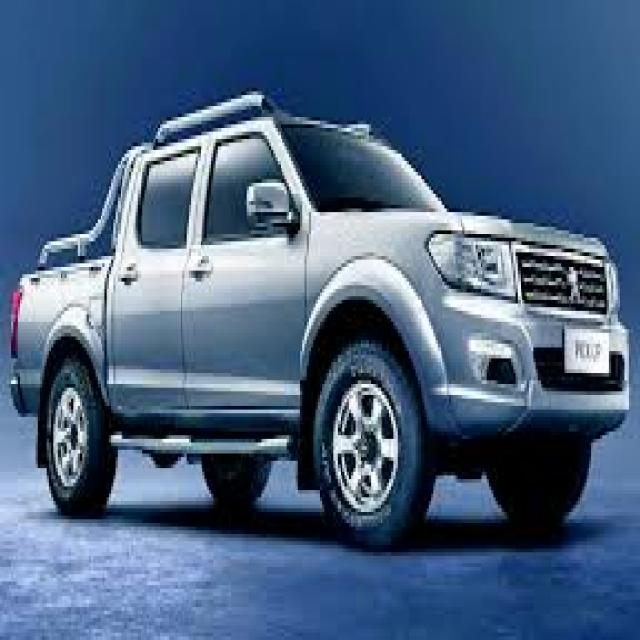Pickup Trucks: (13, 110, 629, 548)
